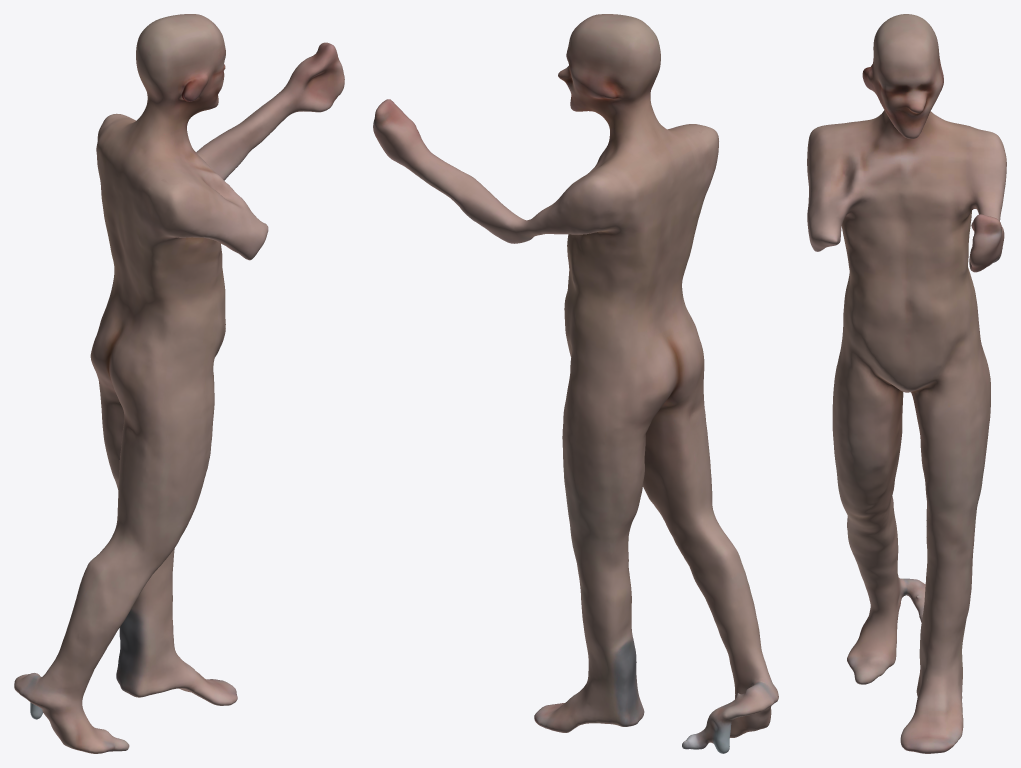
Rendered from 1c090e688c89_human_with_motion__.fbx.
3 views of the same model, side by side, from view 1: azimuth 30°, elevation 25°; view 2: azimuth 150°, elevation 25°; view 3: azimuth 270°, elevation 25° (orthographic).
Visible parts, largest first — view 1: high_poly; view 2: high_poly; view 3: high_poly.
Part boxes in pixels (left/top/right/bottom): high_poly: left=14, top=14, right=344, bottom=753; high_poly: left=373, top=14, right=778, bottom=753; high_poly: left=807, top=14, right=1006, bottom=753.
Bounding box in the file's own units: 53.48 × 100 × 25.78.
